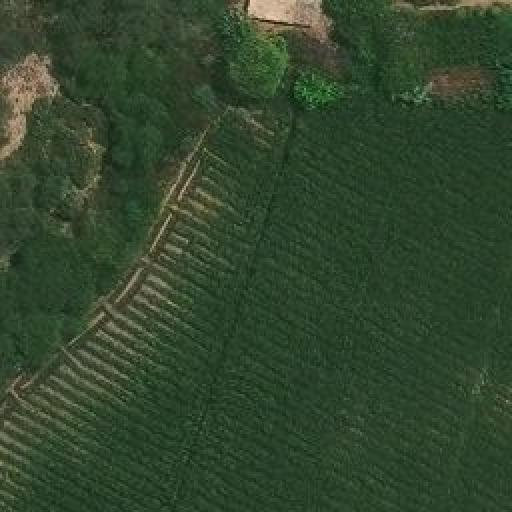manzanas: (243, 0, 327, 31)
